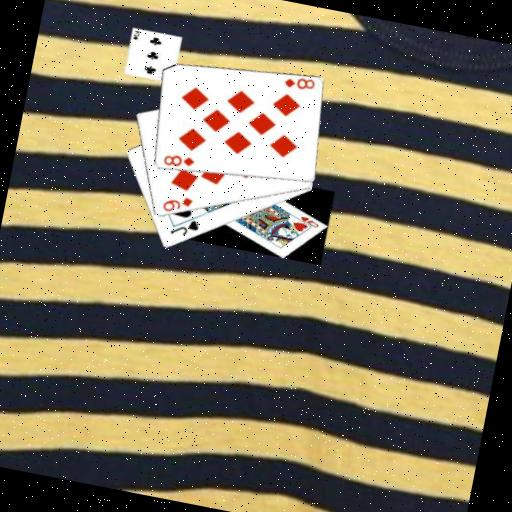8D: (159, 150, 197, 173), (280, 72, 317, 95)
9D: (158, 190, 195, 218)
JS: (167, 213, 202, 242)
